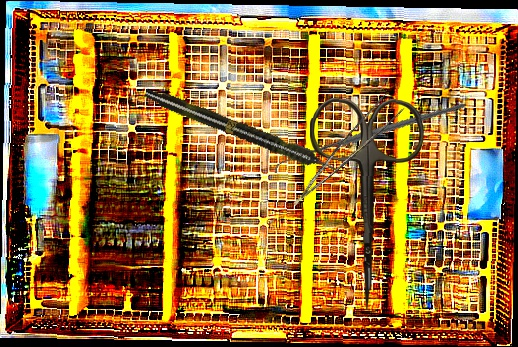Handpiece: (142, 84, 344, 180)
Hook Surgical: (273, 65, 467, 212)
Iris Scissors: (307, 98, 426, 311)
Tissue Forceps: (277, 89, 409, 207)
